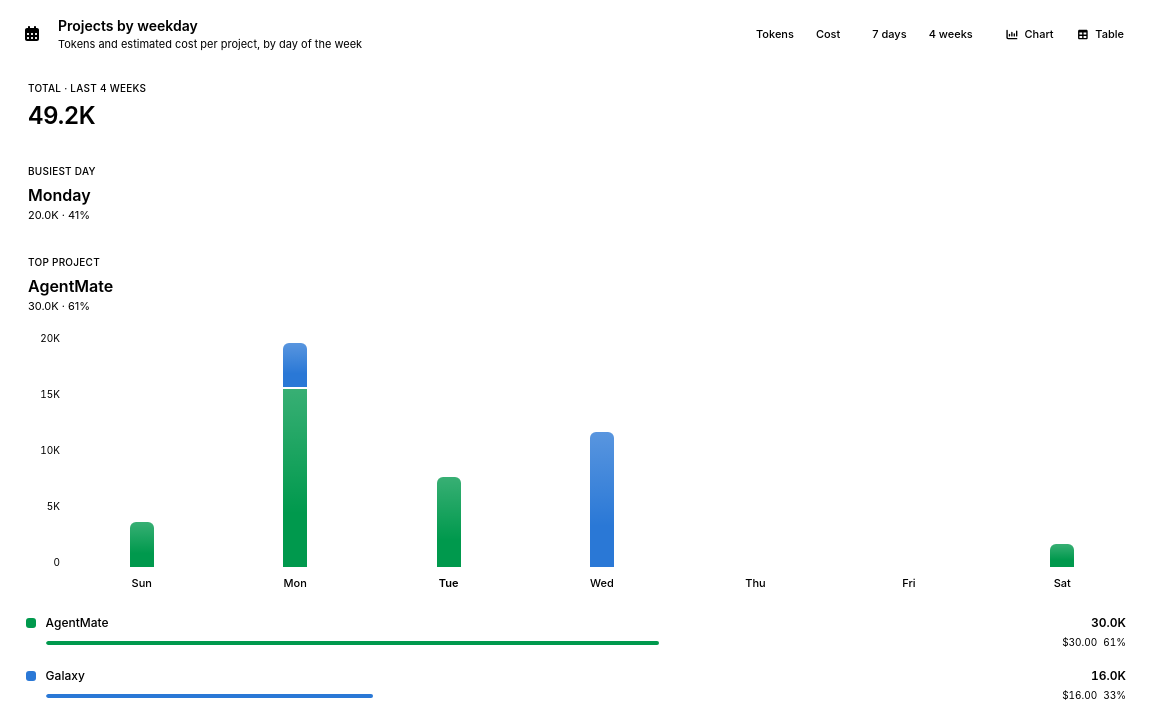
Test: ProjectWeekdayChart tooltips › shows the day, every project on it, the total and the average on hover
Expected: the element named "Usage by weekday" is shown, [68,342,1136,566]
Hover over the picture named "Monday. Total 20.0K, average 5.0K per Monday. AgentMate 16.0".
mouse_move(295, 454)  # box [283,342,307,566]
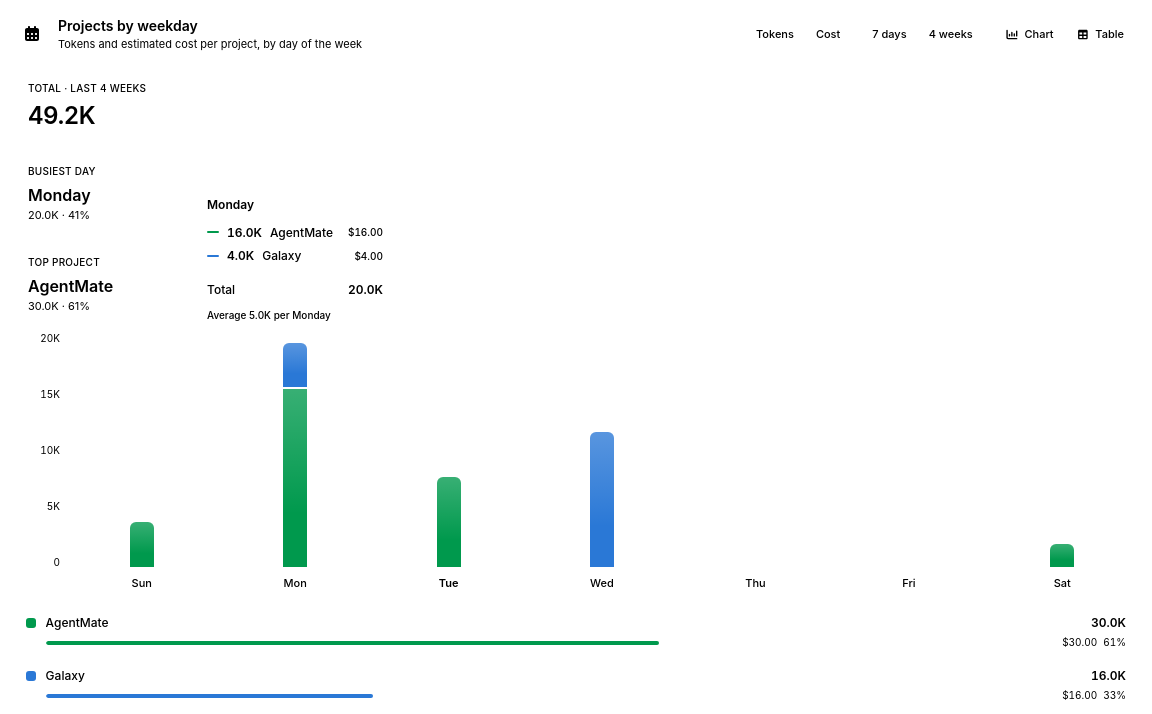
Expected: the element that starts with "Monday" is shown, [207,197,254,212]
Expected: the element that starts with "Monday" shows "AgentMate", [270,224,333,240]
Expected: the element that starts with "Monday" shows "16.0K", [227,224,262,240]
